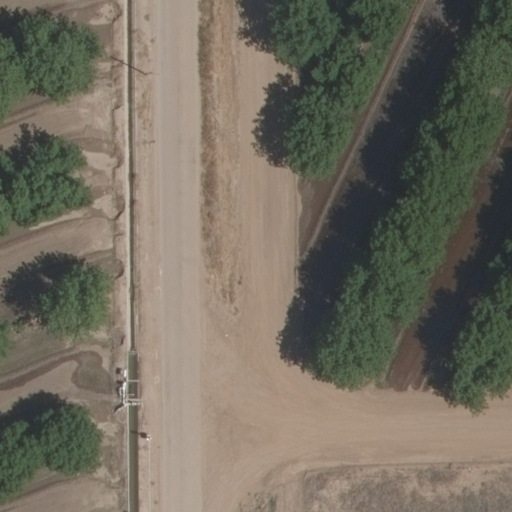DT: (139, 67, 156, 79)
